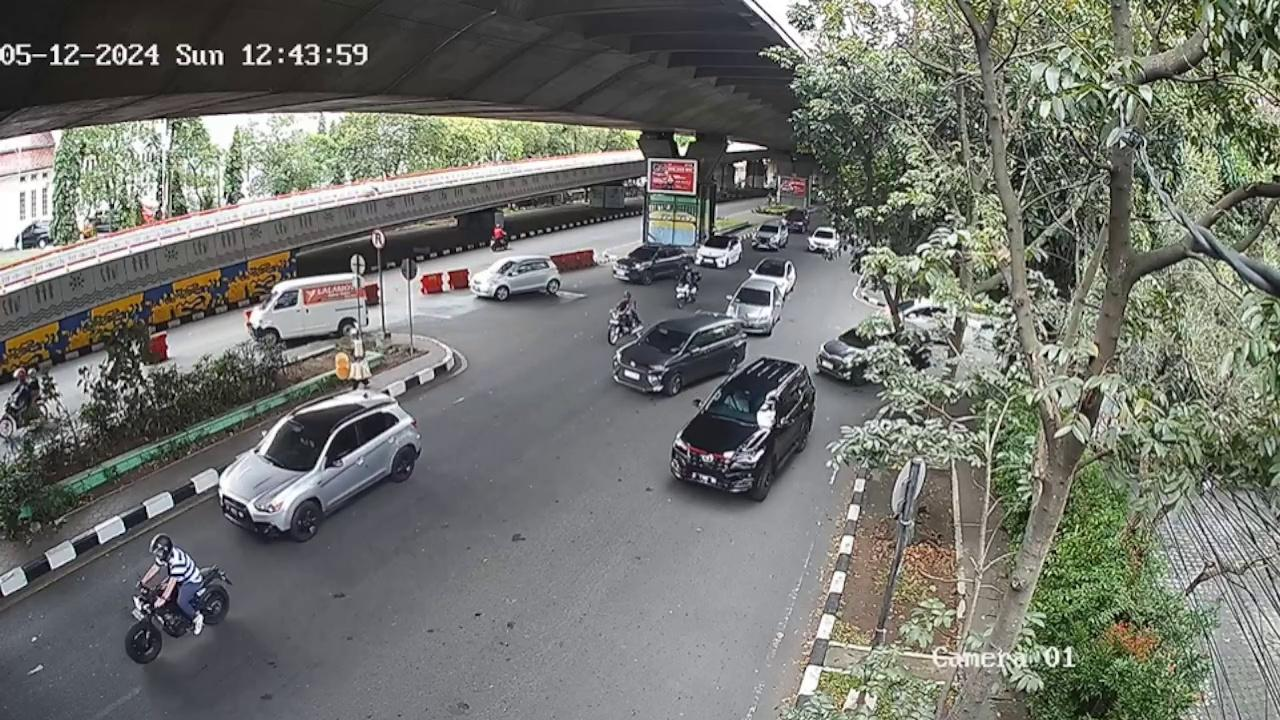pakai: (724, 390, 751, 418)
windshield: (701, 381, 778, 434), (261, 416, 327, 467), (632, 320, 694, 355)
